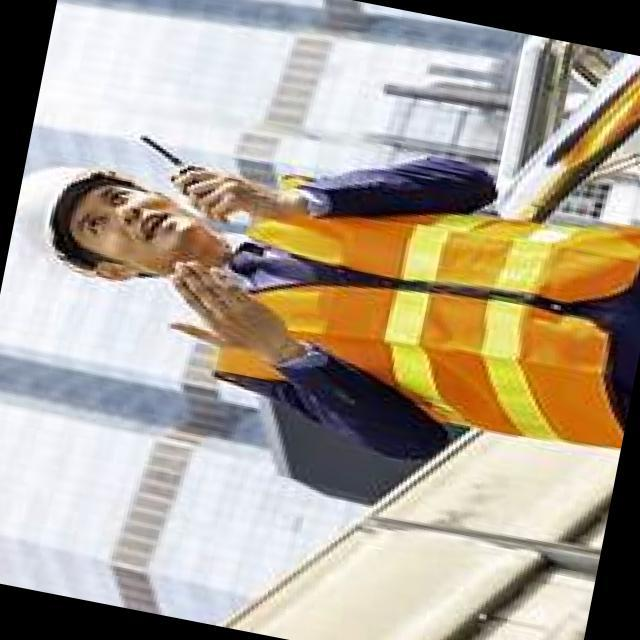not-gloved: (144, 246, 314, 364), (169, 151, 308, 229)
